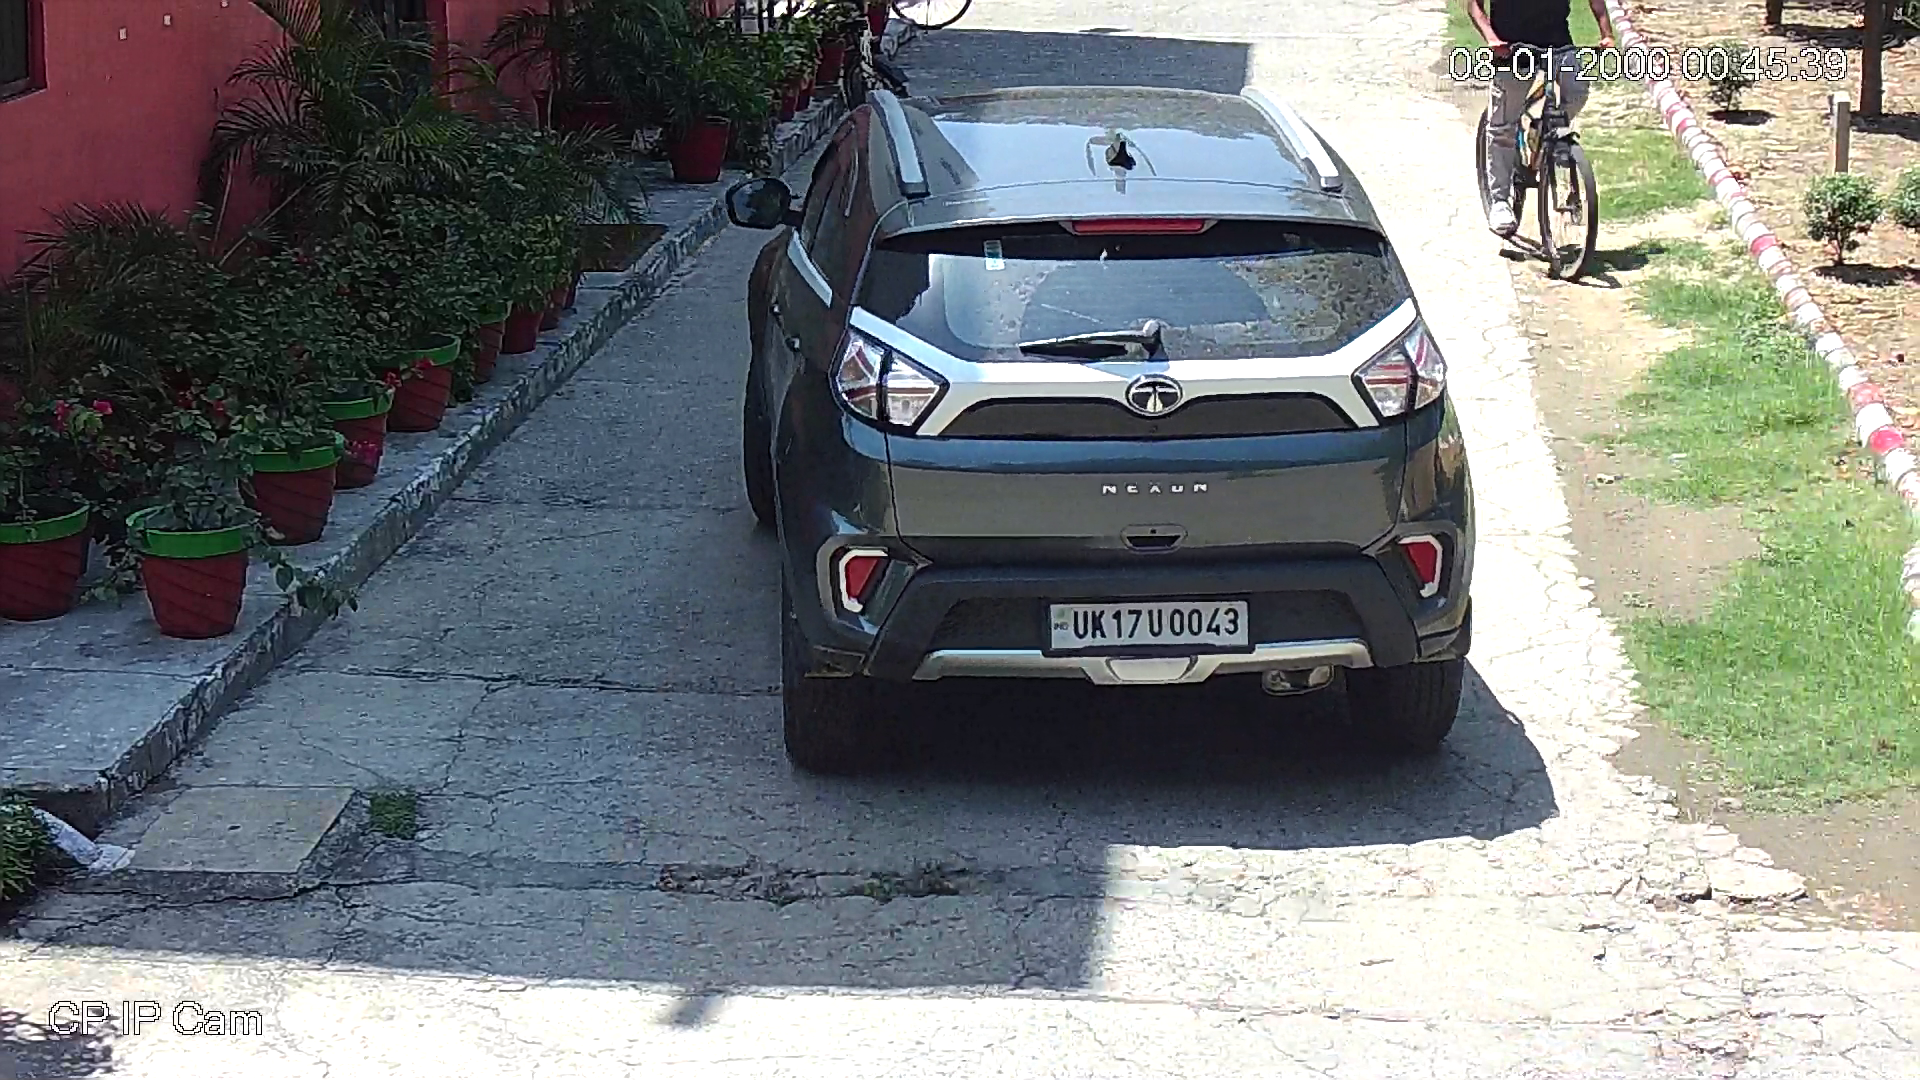plate: (1055, 601, 1247, 652)
